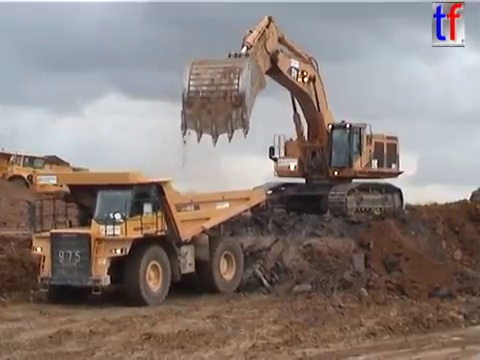excavator: (177, 14, 406, 224)
truck: (22, 168, 269, 308), (1, 150, 92, 198), (1, 149, 53, 199)
